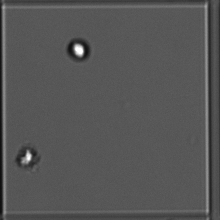Living Cell: (15, 139, 46, 175), (63, 35, 97, 67)
